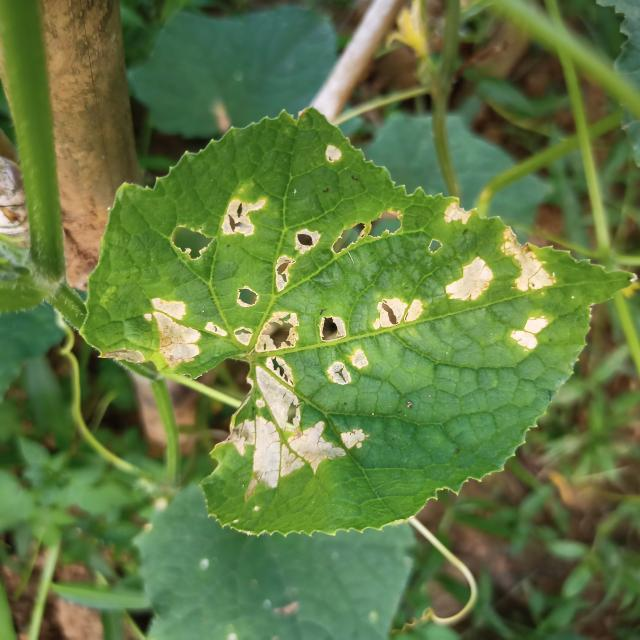disease_cucumber: (148, 190, 372, 503), (371, 168, 566, 363), (315, 141, 344, 172)
